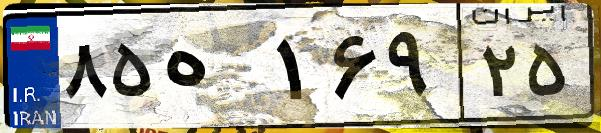1: (270, 28, 330, 110)
2: (475, 38, 525, 113)
5: (525, 38, 570, 115), (110, 28, 158, 98)
6: (330, 28, 385, 110)
8: (57, 26, 110, 100)
9: (385, 28, 445, 110)
ه: (158, 20, 270, 120)
